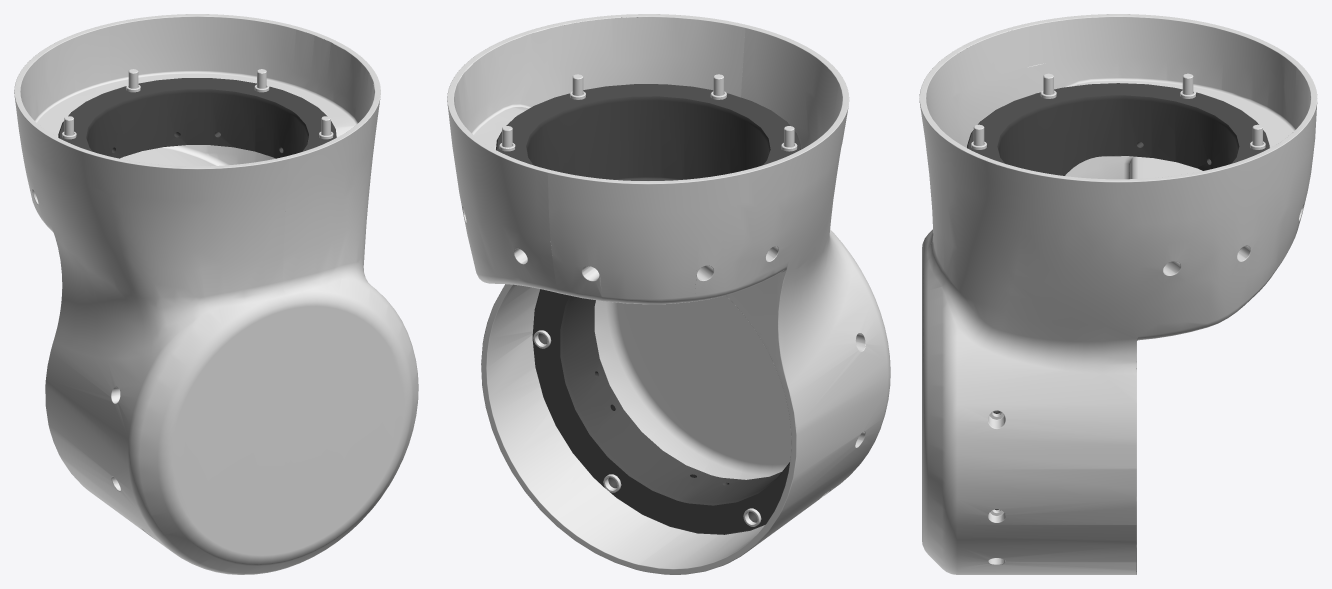
Rendered from link_left_hip_z.glb.
3 views of the same model, side by side, from view 1: azimuth 30°, elevation 25°; view 2: azimuth 150°, elevation 25°; view 3: azimuth 270°, elevation 25° (orthographic). The views are drawn at different scales.
Parts seen in each view (by area): view 1: link_left_hip_z; view 2: link_left_hip_z; view 3: link_left_hip_z.
Part boxes in pixels (x1,y1,x2,y2): link_left_hip_z: (14,14,418,574); link_left_hip_z: (447,14,890,574); link_left_hip_z: (919,14,1317,574).
Size of the model in its own units: 0.1498 by 0.1912 by 0.1499.
Materials: 1 (1 with a texture image).
